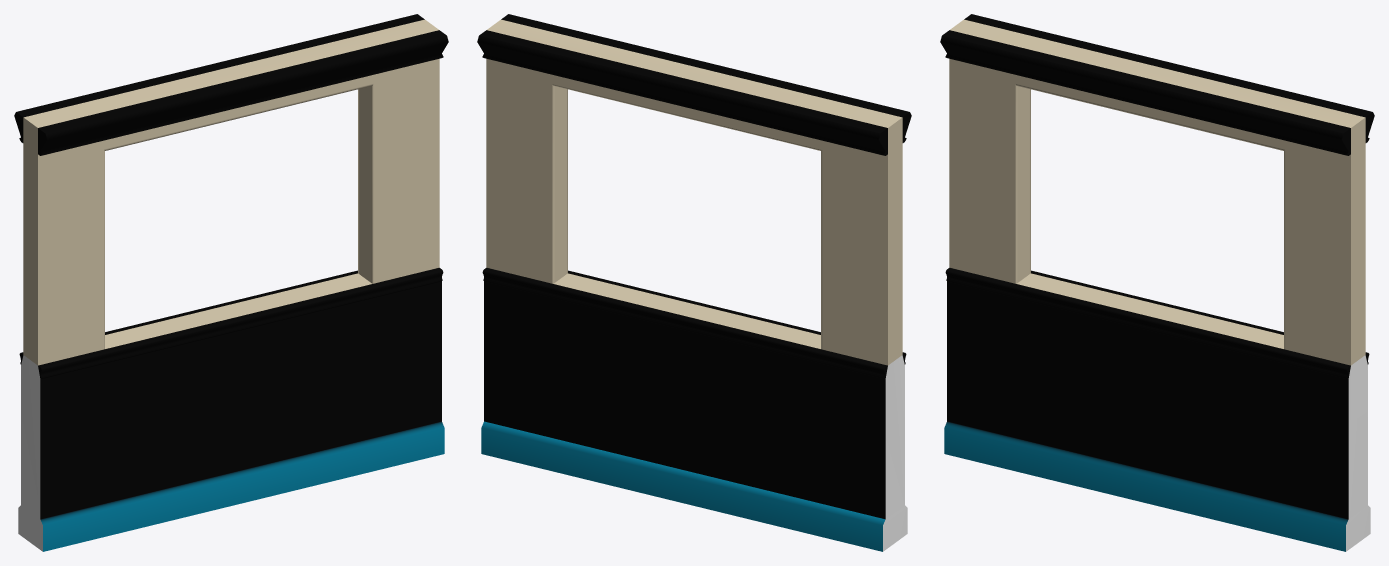
The model's file is Classic_WallWindowFrame_02.fbx.
3 views of the same model, side by side, from view 1: azimuth 30°, elevation 25°; view 2: azimuth 150°, elevation 25°; view 3: azimuth 330°, elevation 25° (orthographic).
Parts seen in each view (by area): view 1: Classic_WallWindowFrame_02_LOD00; view 2: Classic_WallWindowFrame_02_LOD00; view 3: Classic_WallWindowFrame_02_LOD00.
Boxes of the visible parts, x1=… form: Classic_WallWindowFrame_02_LOD00: x1=14, y1=14, x2=448, y2=551; Classic_WallWindowFrame_02_LOD00: x1=477, y1=14, x2=911, y2=551; Classic_WallWindowFrame_02_LOD00: x1=940, y1=14, x2=1374, y2=551.
Size of what is drawn, in the model's own units: 300 by 300 by 42.83.
